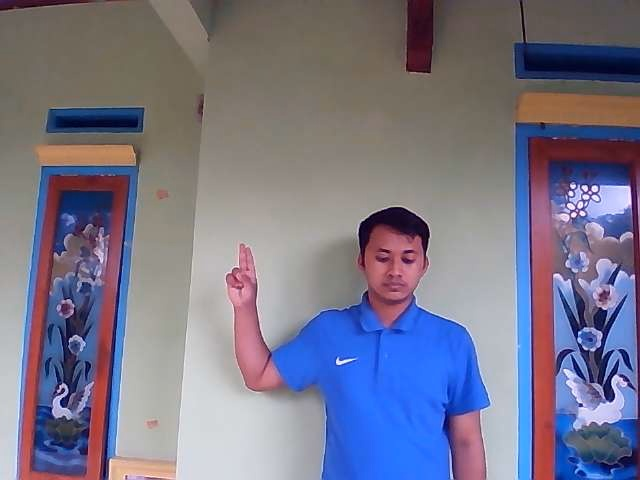U: (224, 242, 260, 306)
